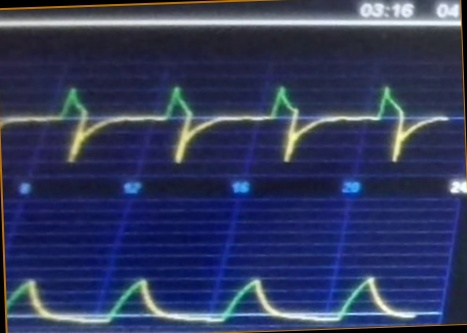Normal Flow: (2, 77, 450, 171)
Normal Volume: (10, 257, 421, 325)
